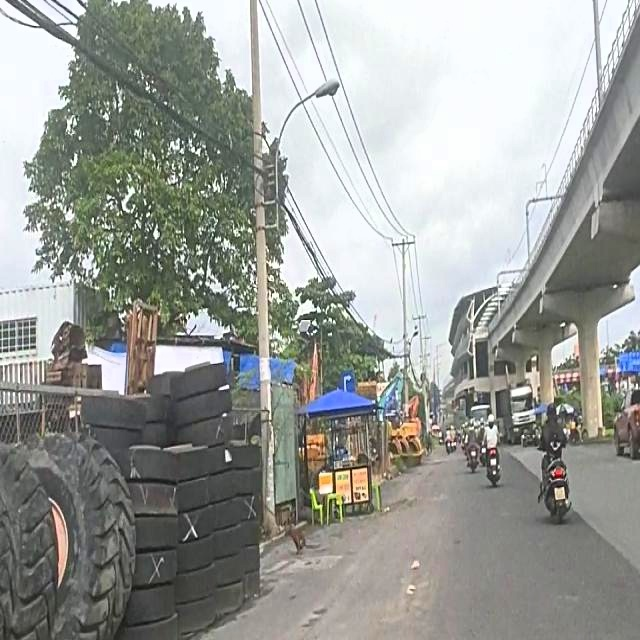R.301e: (339, 371, 355, 393)
